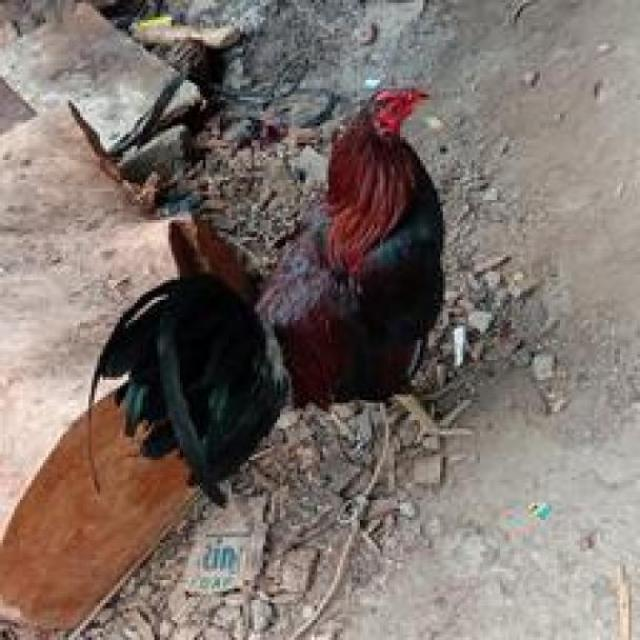Chicken: (89, 85, 555, 516)
